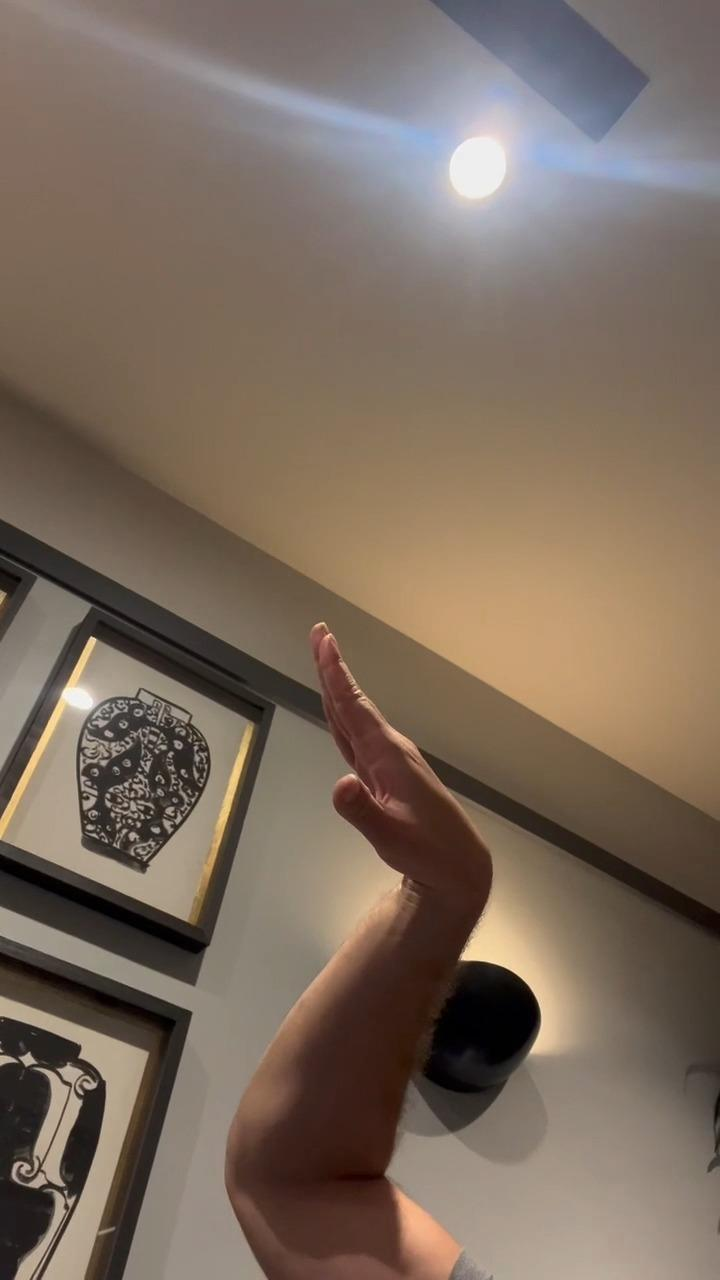Paper: (304, 623, 497, 932)
